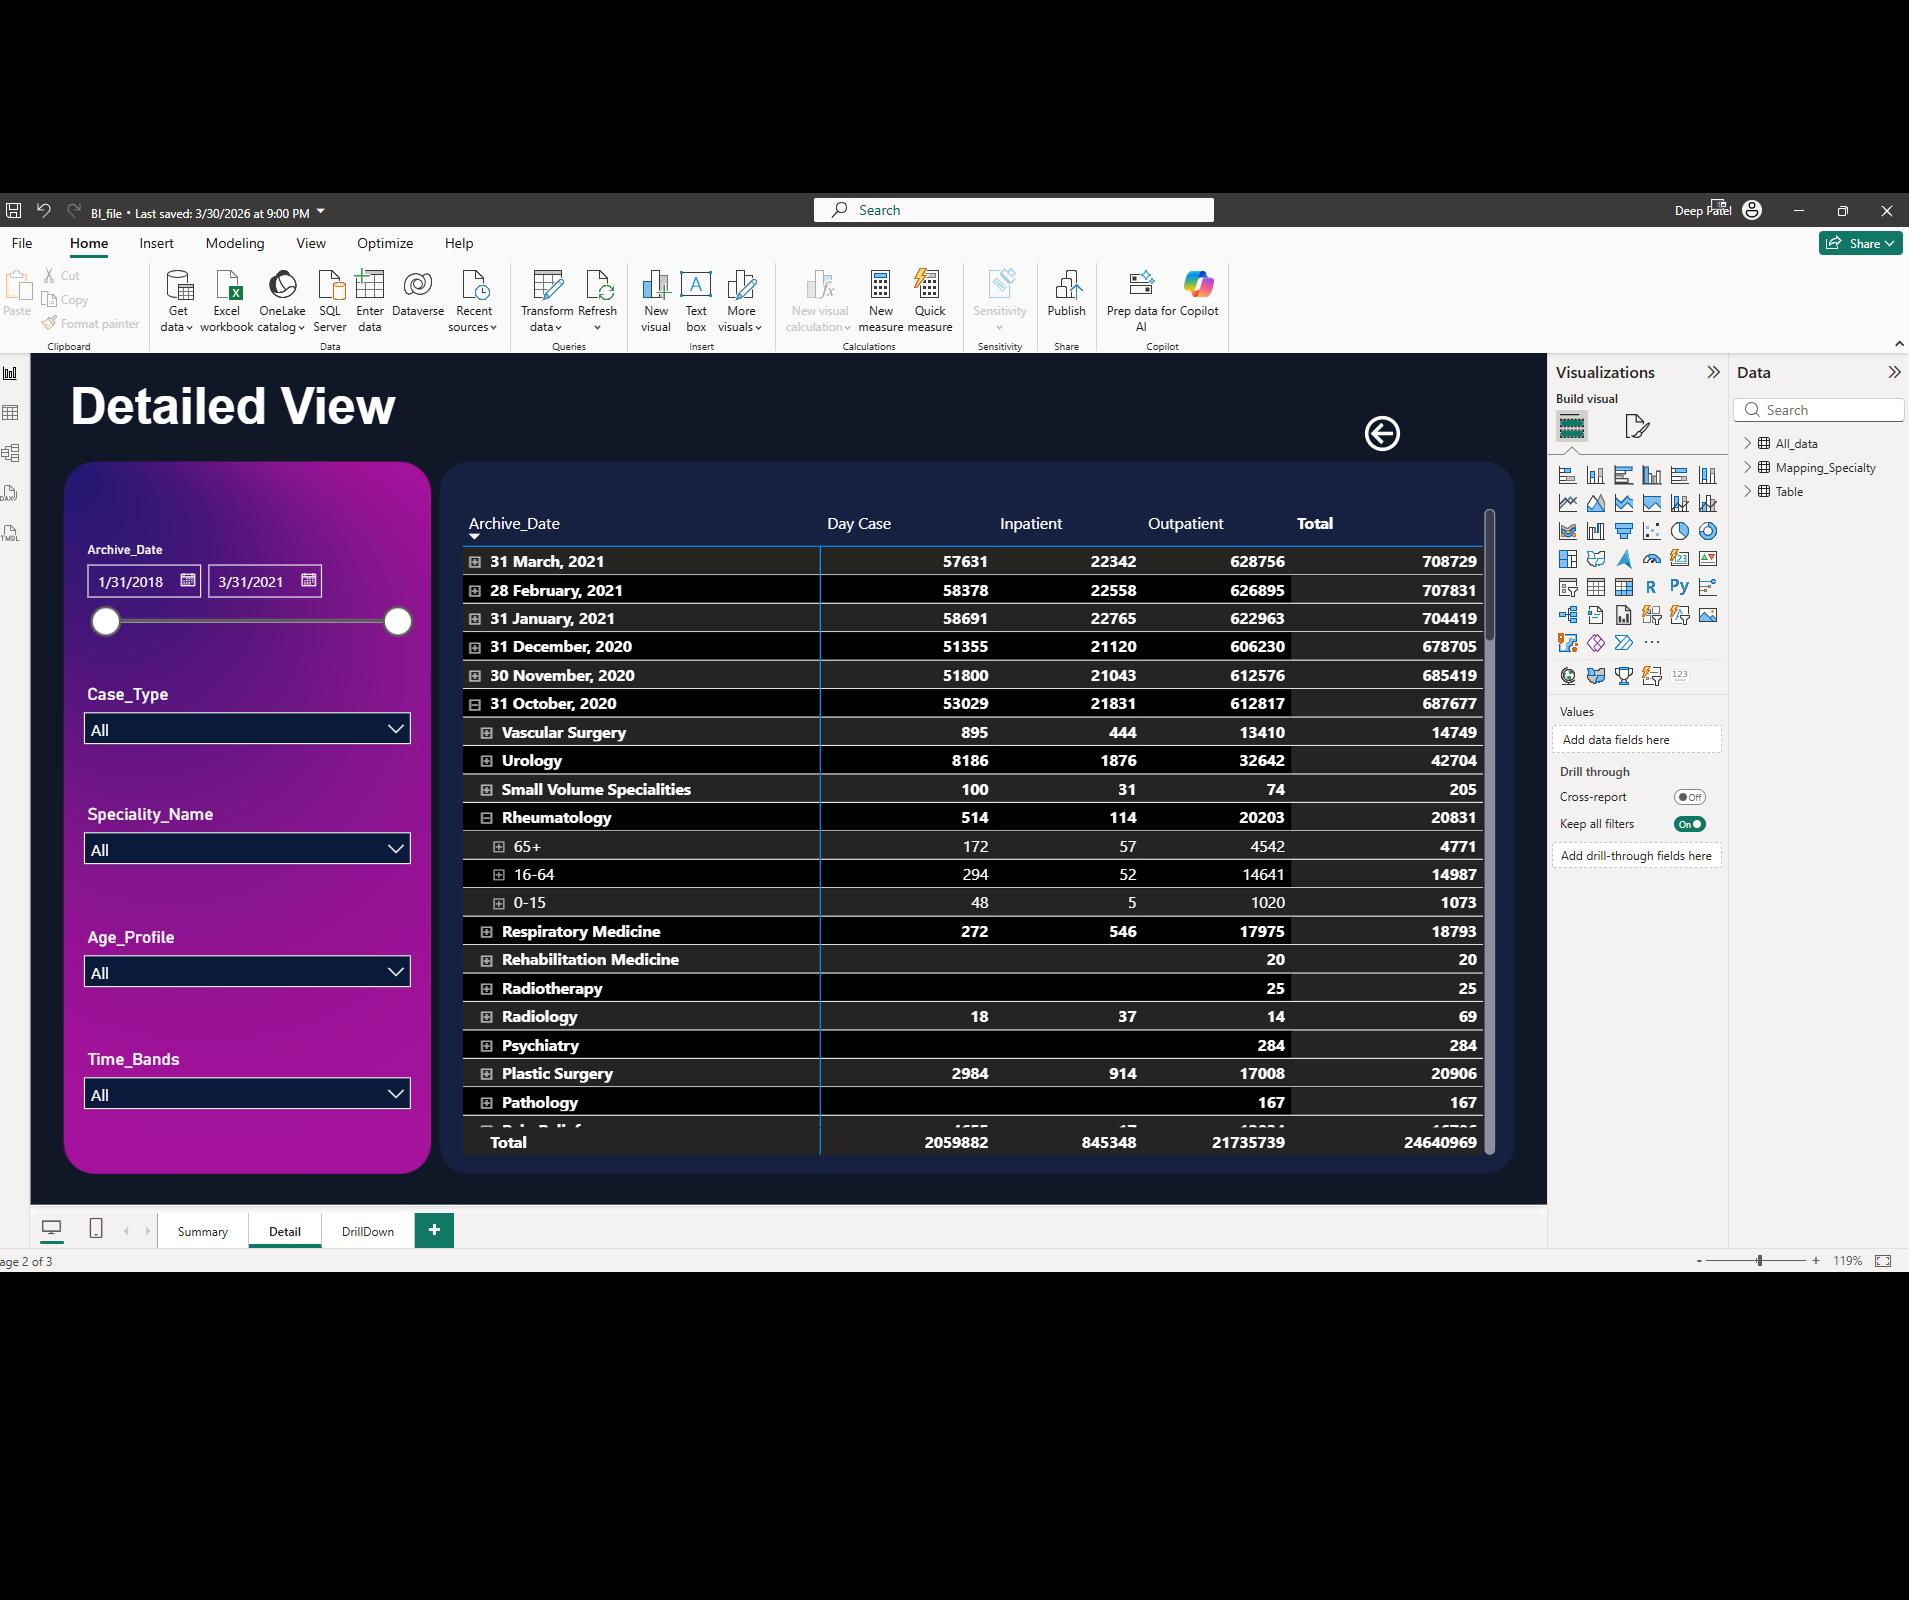

The page's visual inventory and layout, read from the dashboard file:
{"tool":"powerbi","page":{"name":"Detail","canvas":[1280,720],"ordinal":1},"visuals":[{"type":"slicer","fields":{"Values":["All_data.Archive_Date"]},"box":[35.6,154.4,295.9,120.7],"z":0},{"type":"slicer","fields":{"Values":["All_data.Case_Type"]},"box":[35.6,275.1,295.9,75.2],"z":1000},{"type":"slicer","fields":{"Values":["All_data.Speciality_Name"]},"box":[35.6,376.1,295.9,75.2],"z":2000},{"type":"textbox","box":[28.7,6.9,294.9,83.1],"z":3000},{"type":"slicer","fields":{"Values":["All_data.Age_Profile"]},"box":[35.6,480,295.9,75.2],"z":4000},{"type":"slicer","fields":{"Values":["All_data.Time_Bands"]},"box":[35.6,582.9,295.9,75.2],"z":5000},{"type":"pivotTable","fields":{"Rows":["All_data.Archive_Date.Variation.Date Hierarchy.Year","All_data.Speciality_Name","All_data.Age_Profile","All_data.Time_Bands"],"Columns":["All_data.Case_Type"],"Values":["Sum(All_data.Total)"]},"box":[360.2,126.7,880.8,555.2],"z":6000},{"type":"actionButton","box":[1121.4,48.1,100.4,39.7],"z":7000}]}

Visuals, with their boxes on the page's 1280x720 design canvas (x1, y1, x2, y2). These are canvas units, not pixel positions in the 1909x1600 screenshot, which may show the page scaled, cropped or inside an application window:
slicer - All_data.Archive_Date: <box>36,154,332,275</box>
slicer - All_data.Case_Type: <box>36,275,332,350</box>
slicer - All_data.Speciality_Name: <box>36,376,332,451</box>
textbox: <box>29,7,324,90</box>
slicer - All_data.Age_Profile: <box>36,480,332,555</box>
slicer - All_data.Time_Bands: <box>36,583,332,658</box>
pivotTable - All_data.Archive_Date.Variation.Date Hierarchy.Year x All_data.Speciality_Name: <box>360,127,1241,682</box>
actionButton: <box>1121,48,1222,88</box>
